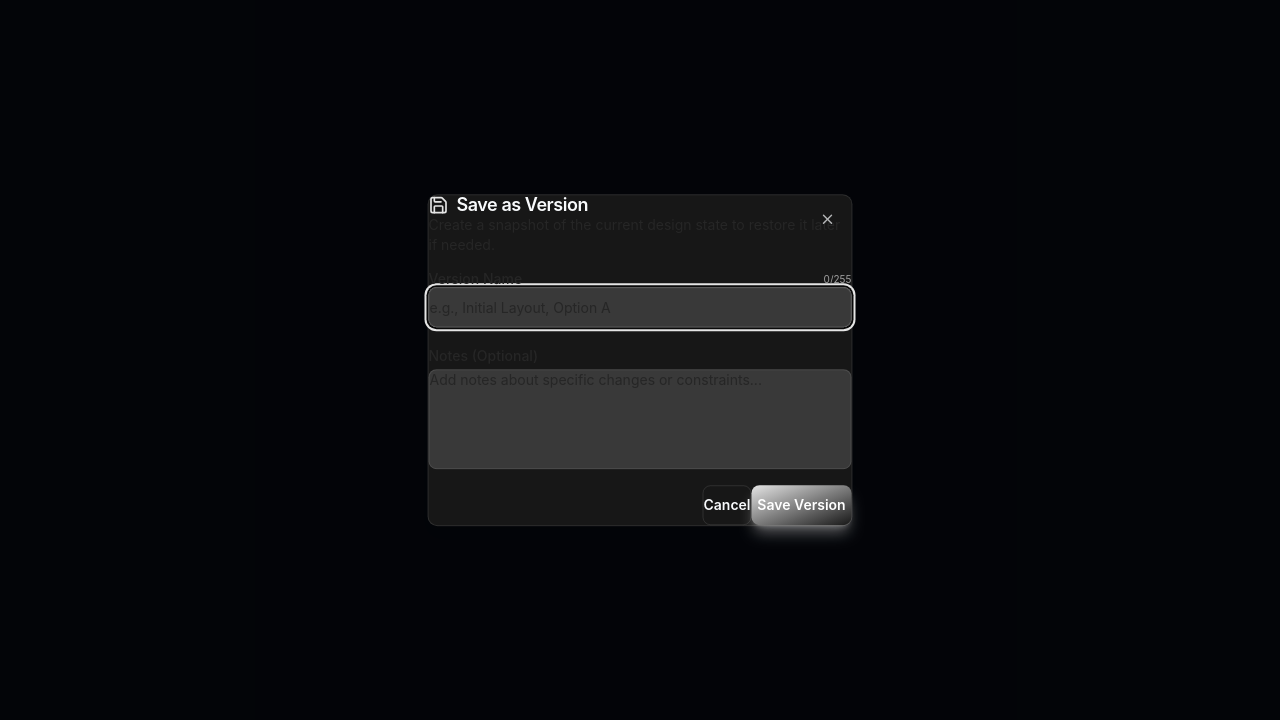
Scenario: SaveVersionModal › Rendering and Validation › should show validation error for empty version name
This screenshot has width=1280, height=720.
Click the button "Save Version": (802, 505) [752,485,852,525]
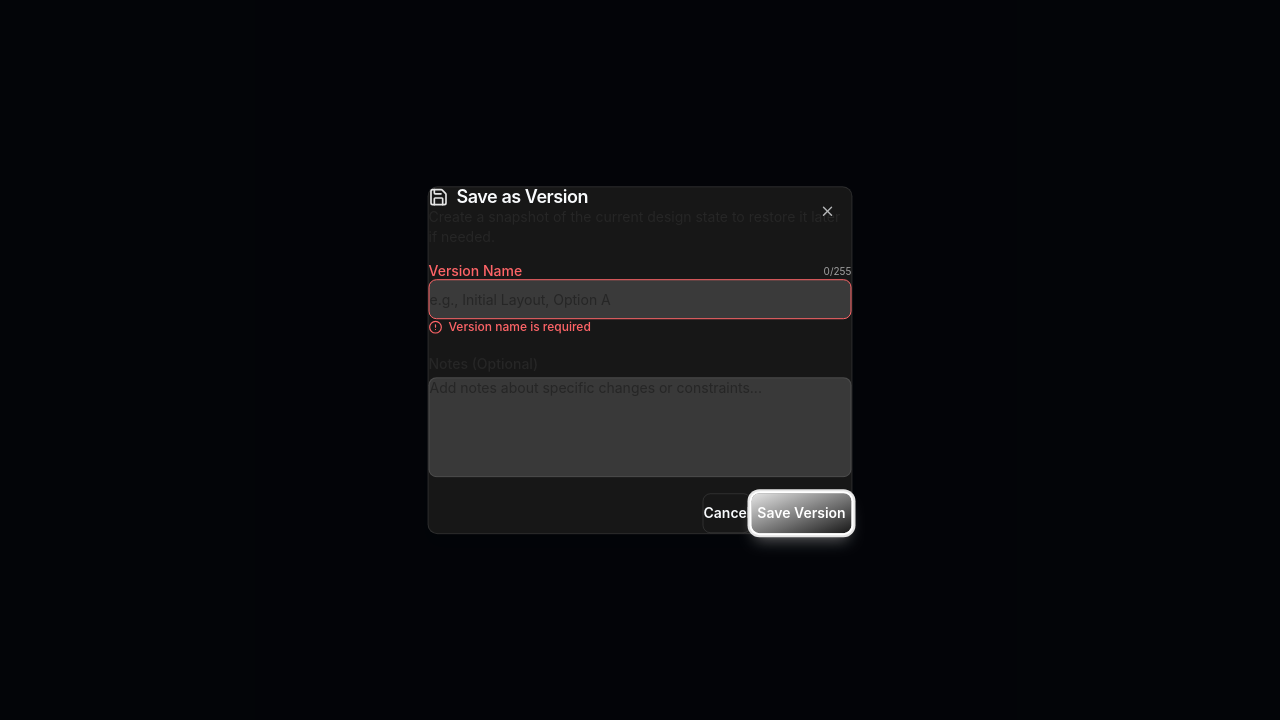
Expected: the text "Version name is required" is shown, [428,319,591,334]
